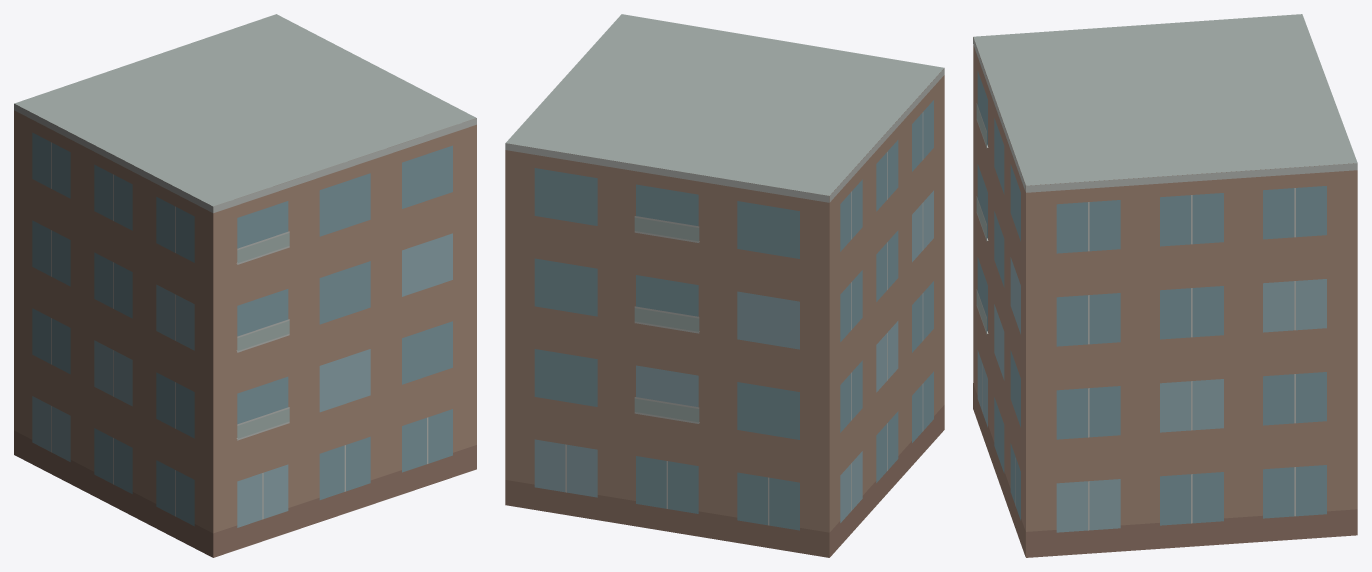
File: survey-upis-32579642.glb
The picture shows the model from 3 angles, left to right: view 1: azimuth 30°, elevation 25°; view 2: azimuth 150°, elevation 25°; view 3: azimuth 270°, elevation 25°; orthographic projection. The views are drawn at different scales.
Visible parts, largest first — view 1: survey-upis-32579642.tmp; view 2: survey-upis-32579642.tmp; view 3: survey-upis-32579642.tmp.
Part boxes in pixels (bbox=[...]): survey-upis-32579642.tmp: bbox=[14, 14, 476, 557]; survey-upis-32579642.tmp: bbox=[505, 14, 944, 557]; survey-upis-32579642.tmp: bbox=[973, 14, 1357, 557].
Size of the model in its own units: 12.68 by 12.8 by 12.
